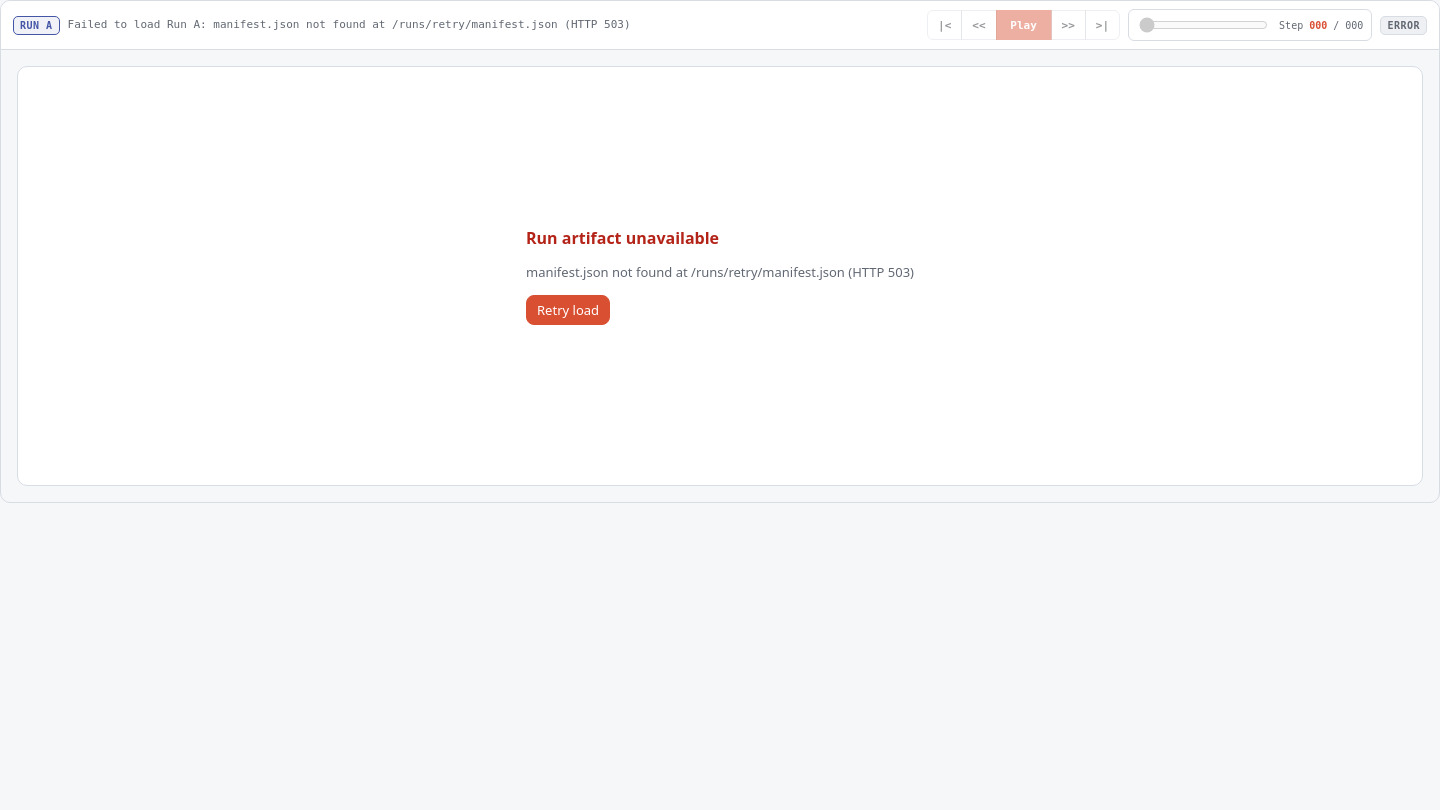
it: RunWorkspace › shows a load error and retries the same selected run
Expected: the message that starts with "Run artifact unavailable" is shown, [526,227,719,249]
Expected: the message that starts with "Run artifact unavailable" shows "HTTP 503", [526,263,914,281]
Click the button "Retry load" at (568, 310), box [526,295,610,325]
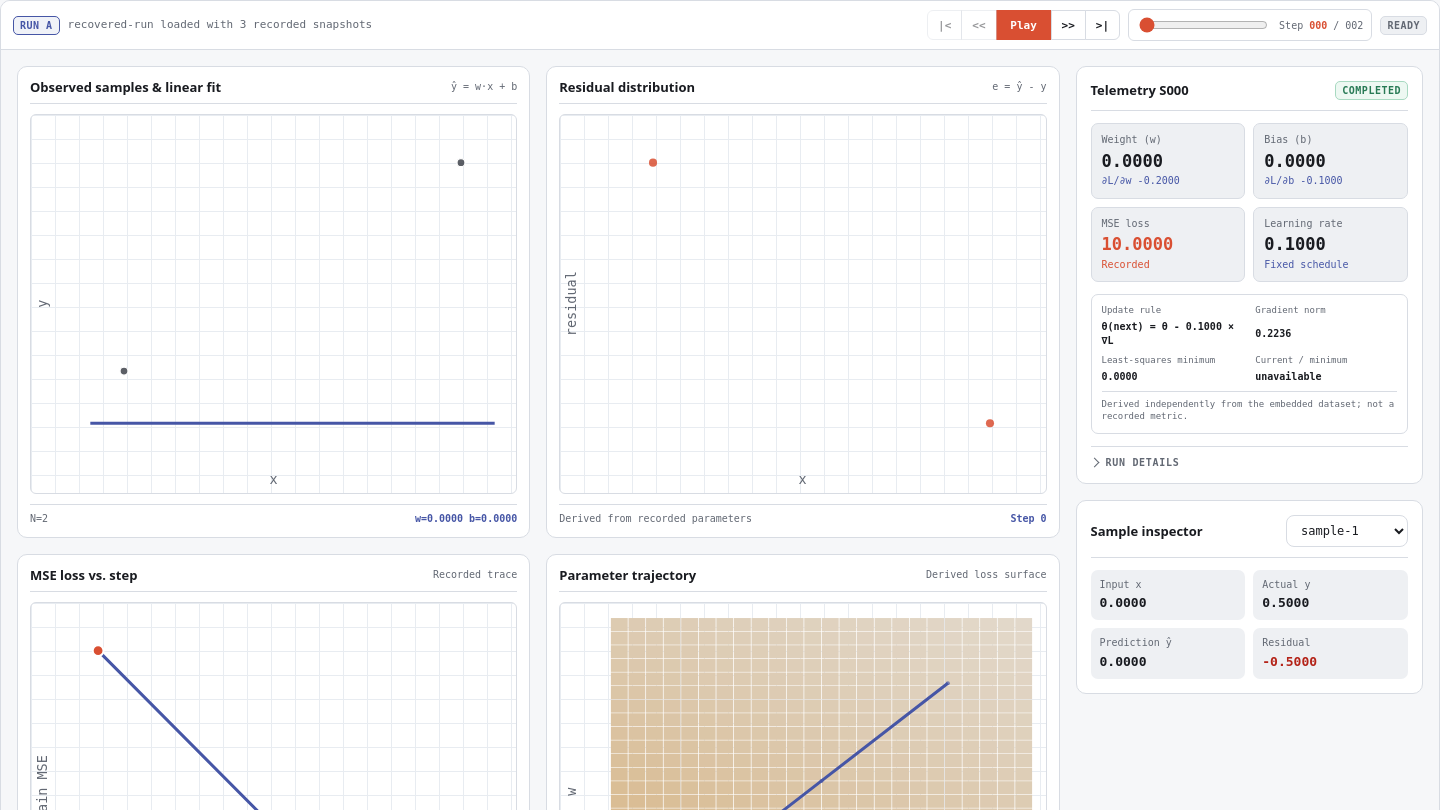
Now the text "recovered-run loaded with 3 recorded snapshots" is shown, box [68,18,372,32]
